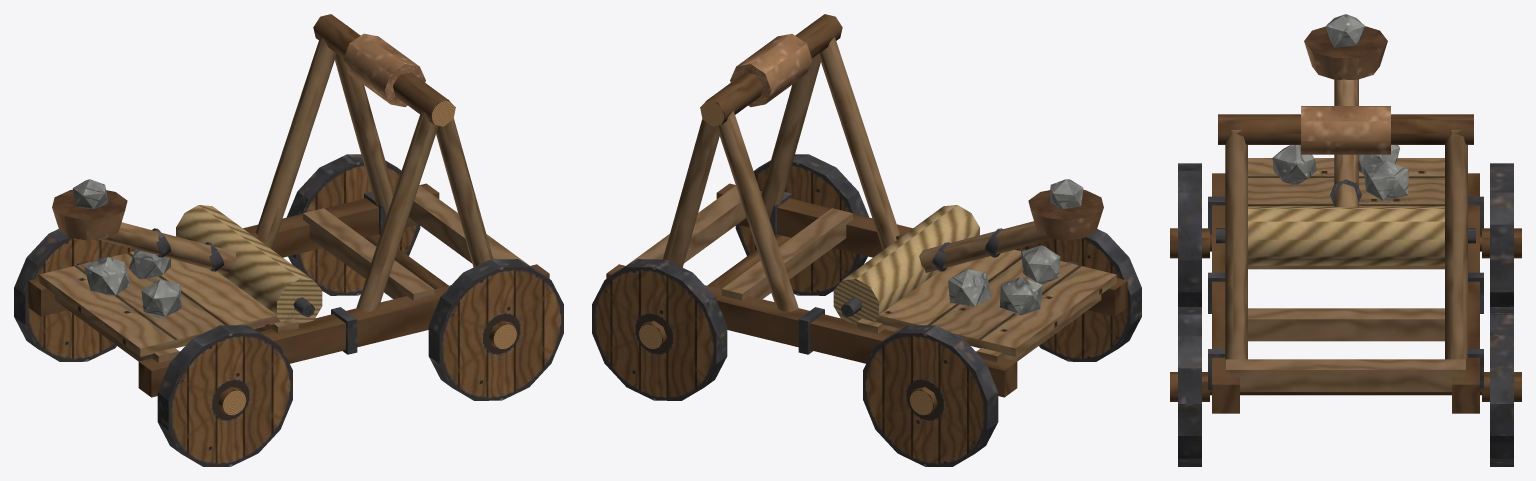
Rendered from catapult.glb.
The picture shows the model from 3 angles, left to right: view 1: azimuth 30°, elevation 25°; view 2: azimuth 150°, elevation 25°; view 3: azimuth 270°, elevation 25°; orthographic projection. The views are drawn at different scales.
Parts seen in each view (by area): view 1: catapult, Arm; view 2: catapult, Arm; view 3: catapult, Arm.
Boxes of the visible parts, x1,y1,x2,y2 form: catapult: (14,14,563,466); Arm: (52,179,236,273); catapult: (592,14,1141,466); Arm: (919,179,1103,272); catapult: (1170,106,1521,466); Arm: (1304,14,1387,206).
Size of the model in its own units: 2.7 by 1.83 by 1.76.
1 material, 1 textured.
